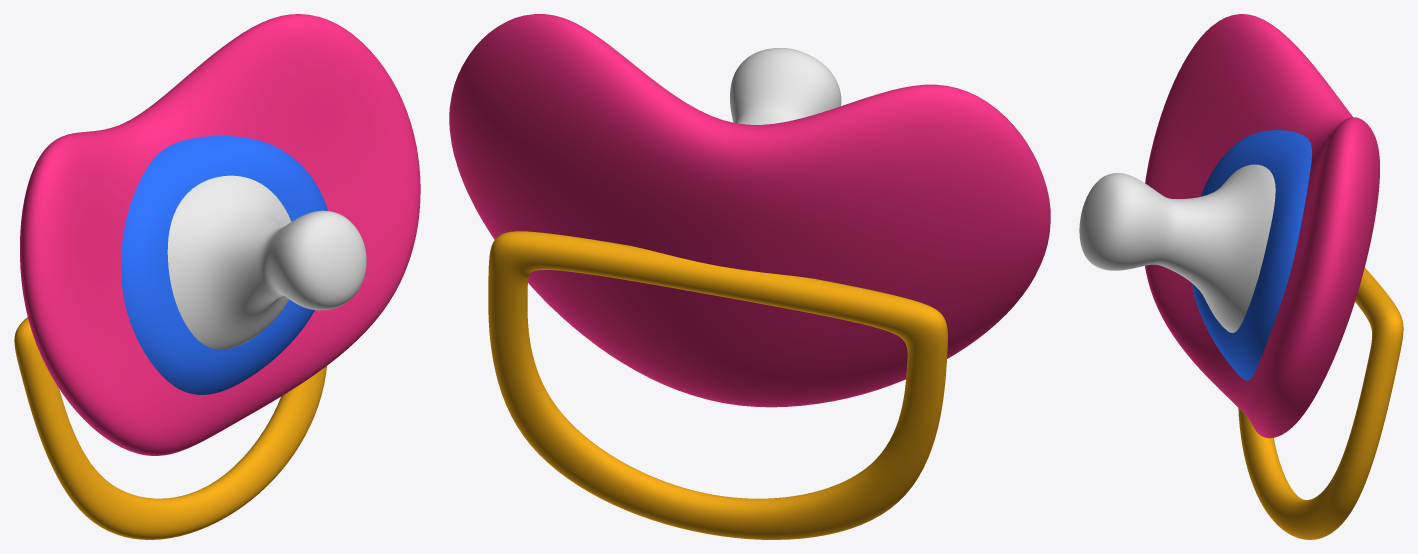
The model's file is Pacifier.fbx.
3 renders of one model, left to right at view 1: azimuth 30°, elevation 25°; view 2: azimuth 150°, elevation 25°; view 3: azimuth 270°, elevation 25°, orthographic. The views are drawn at different scales.
Parts seen in each view (by area): view 1: Cube.015; view 2: Cube.015; view 3: Cube.015.
Part boxes in pixels (x1,y1,x2,y2): Cube.015: [14, 14, 420, 539]; Cube.015: [449, 14, 1050, 539]; Cube.015: [1079, 14, 1403, 539].
Size of the model in its own units: 0.8008 by 0.764 by 0.5003.
